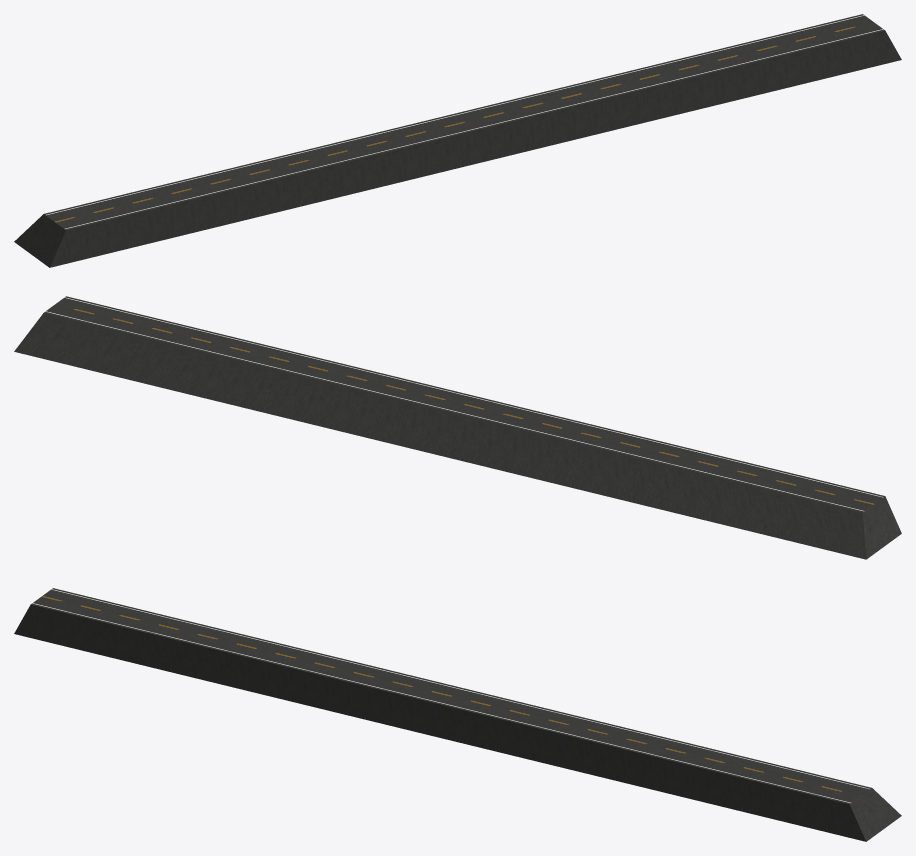
The model's file is Road_v2.fbx.
The picture shows the model from 3 angles, top to bottom: view 1: azimuth 30°, elevation 25°; view 2: azimuth 150°, elevation 25°; view 3: azimuth 330°, elevation 25°; orthographic projection.
Parts seen in each view (by area): view 1: Plane.006; view 2: Plane.006; view 3: Plane.006.
Part boxes in pixels (x1=…): Plane.006: x1=14, y1=14, x2=901, y2=267; Plane.006: x1=14, y1=296, x2=901, y2=559; Plane.006: x1=14, y1=588, x2=901, y2=841.
Size of the model in its own units: 11503 by 432 by 833.
